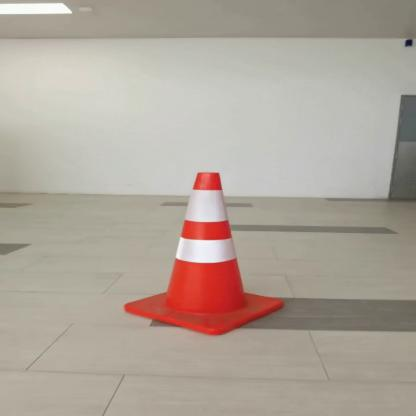cone: (105, 156, 290, 342)
